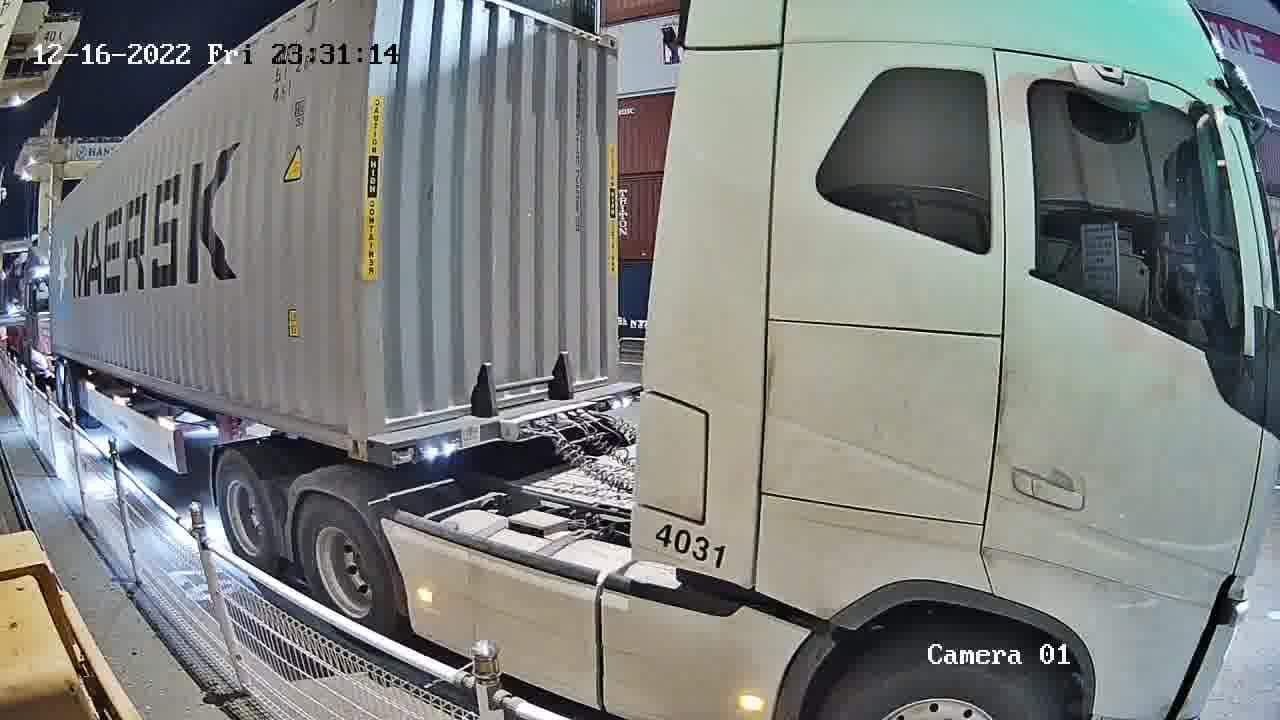Chassis: (372, 380, 647, 470)
Hole_R: (327, 409, 372, 463)
Tire: (297, 497, 400, 636), (215, 451, 285, 577)
